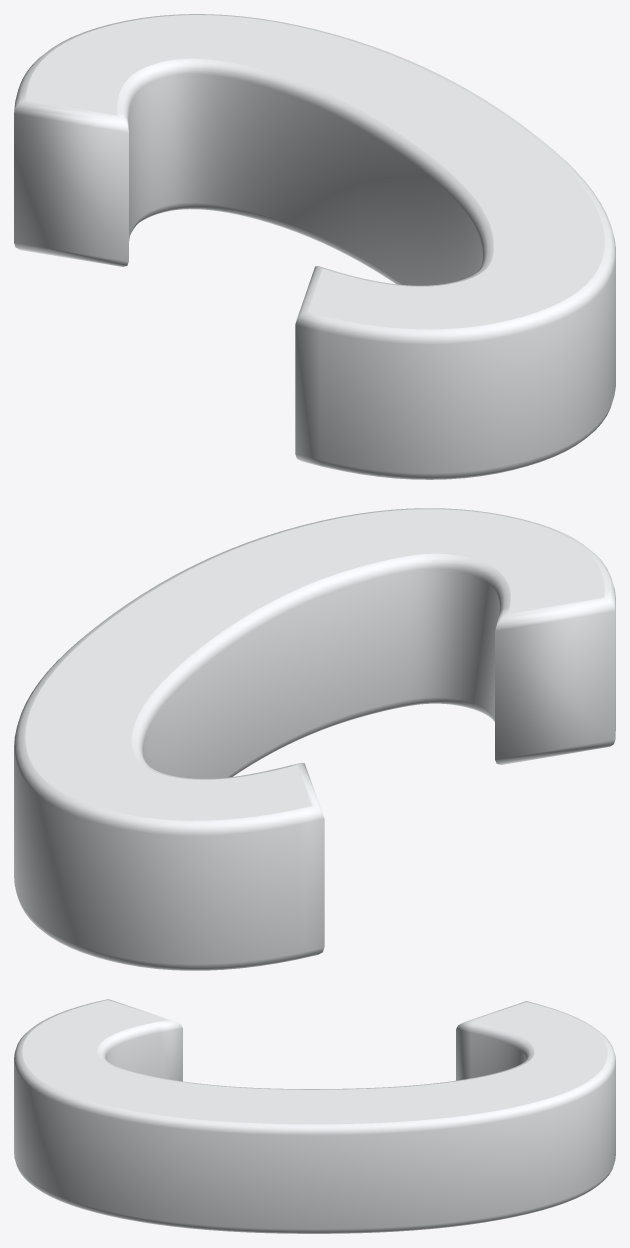
File: goal_clear_letter_04.obj
3 renders of one model, top to bottom at view 1: azimuth 30°, elevation 25°; view 2: azimuth 150°, elevation 25°; view 3: azimuth 270°, elevation 25°, orthographic. The views are drawn at different scales.
Visible parts, largest first — view 1: goal_clear_letter_04; view 2: goal_clear_letter_04; view 3: goal_clear_letter_04.
Boxes of the visible parts, box(x1,y1,x2,y2) form: goal_clear_letter_04: box(14, 14, 615, 479); goal_clear_letter_04: box(14, 508, 615, 970); goal_clear_letter_04: box(14, 999, 615, 1233).
Size of the model in its own units: 0.6843 by 0.2633 by 1.32.
1 material, 1 textured.
